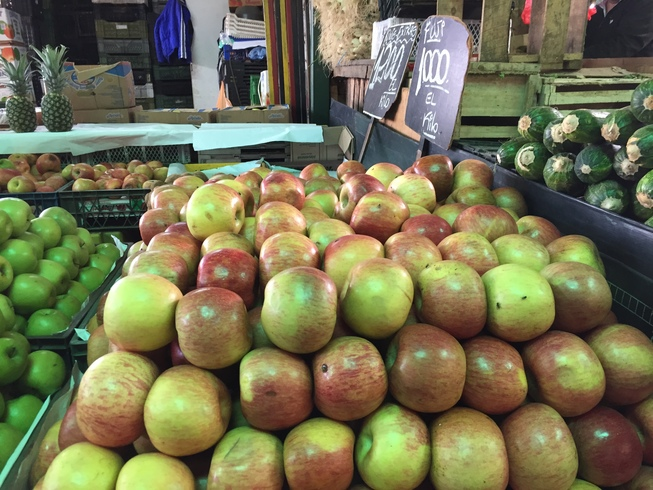precio: (405, 16, 476, 149), (360, 21, 420, 124)
